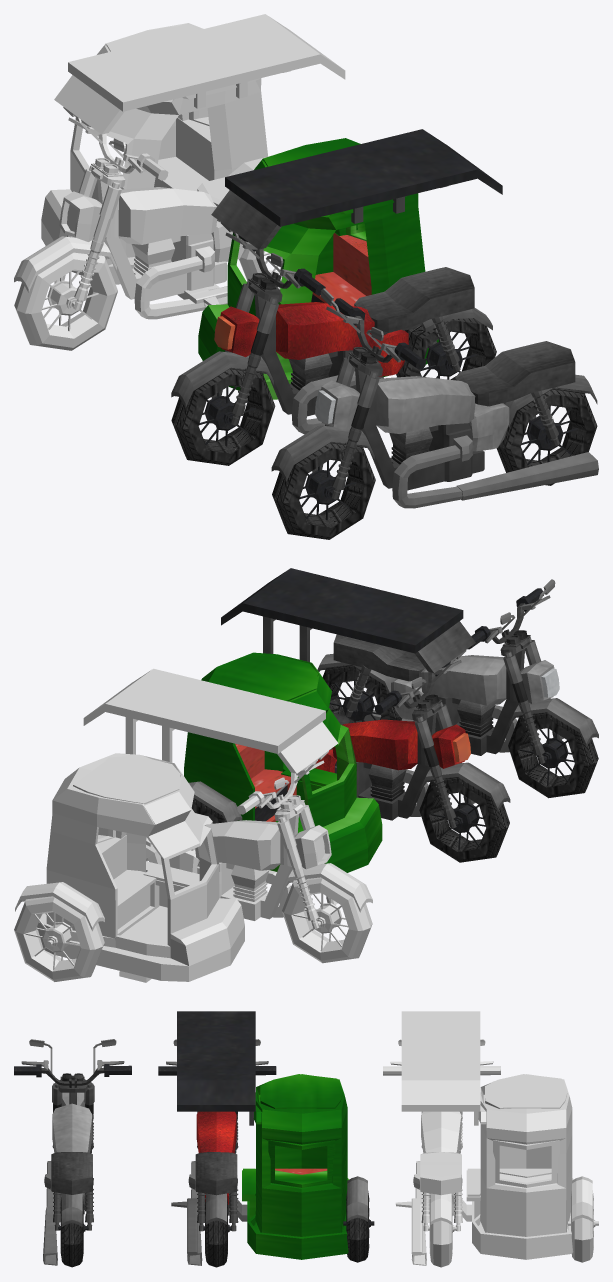
File: toPostonSketchfab.fbx
3 views of the same model, one above another, from view 1: azimuth 30°, elevation 25°; view 2: azimuth 150°, elevation 25°; view 3: azimuth 270°, elevation 25° (orthographic). The views are drawn at different scales.
Visible parts, largest first — view 1: Cube.061, Cube.036, Cube.065, Cube.040, Cube.078, Cube.004, Cube.049, Cube.011, Cube.086, Cube.059, Cube.042, Cube.094 (+29 smaller); view 2: Cube.036, Cube.061, Cube.040, Cube.065, Cube.030, Cube.086, Cube.011, Cube.049, Cube.035, Cube, Cube.094, Cube.067 (+27 smaller); view 3: Cube.061, Cube.036, Cube.040, Cube.065, Cube.035, Cube.094, Cube.042, Cube.001, Cube.059, Cube.067, Cube, Cube.078 (+24 smaller).
Boxes of the visible parts, bbox=[...] form: Cube.061: bbox=[198, 138, 438, 399]; Cube.036: bbox=[41, 23, 267, 284]; Cube.065: bbox=[225, 129, 502, 226]; Cube.040: bbox=[68, 14, 345, 111]; Cube.078: bbox=[349, 355, 598, 508]; Cube.004: bbox=[91, 166, 280, 319]; Cube.049: bbox=[171, 367, 275, 465]; Cube.011: bbox=[14, 252, 117, 350]; Cube.086: bbox=[272, 441, 375, 539]; Cube.059: bbox=[455, 341, 575, 406]; Cube.042: bbox=[354, 267, 474, 332]; Cube.094: bbox=[376, 376, 475, 433]; Cube.036: bbox=[37, 753, 244, 981]; Cube.061: bbox=[184, 652, 382, 872]; Cube.040: bbox=[83, 668, 325, 753]; Cube.065: bbox=[221, 568, 463, 653]; Cube.030: bbox=[14, 896, 104, 981]; Cube.086: bbox=[508, 712, 598, 798]; Cube.011: bbox=[282, 877, 372, 963]; Cube.049: bbox=[419, 777, 509, 862]; Cube.035: bbox=[73, 755, 180, 804]; Cube: bbox=[195, 820, 280, 870]; Cube.094: bbox=[421, 655, 506, 705]; Cube.067: bbox=[332, 719, 417, 770]; Cube.061: bbox=[242, 1074, 348, 1259]; Cube.036: bbox=[466, 1074, 573, 1259]; Cube.040: bbox=[401, 1011, 480, 1111]; Cube.065: bbox=[177, 1011, 255, 1111]; Cube.035: bbox=[485, 1074, 567, 1108]; Cube.094: bbox=[52, 1103, 92, 1152]; Cube.042: bbox=[195, 1152, 237, 1195]; Cube.001: bbox=[420, 1152, 461, 1195]; Cube.059: bbox=[51, 1152, 92, 1194]; Cube.067: bbox=[196, 1111, 236, 1153]; Cube: bbox=[421, 1111, 461, 1153]; Cube.078: bbox=[43, 1079, 87, 1265].
Size of the model in its own units: 1277 by 991 by 2819.
